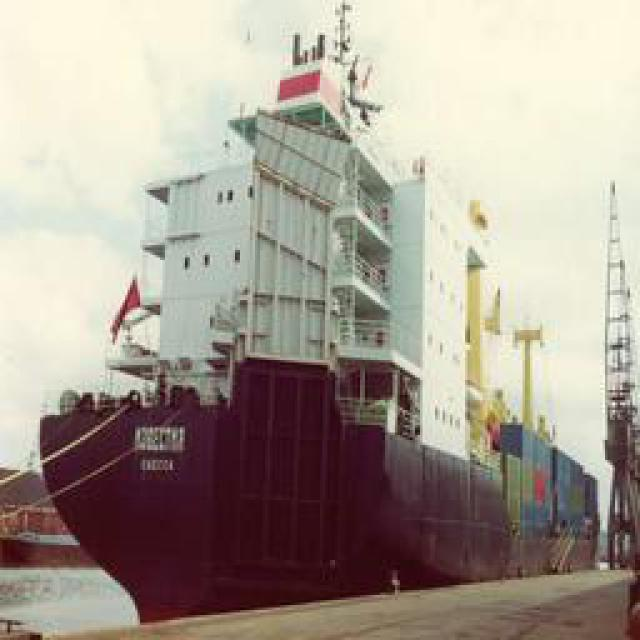Ship: (34, 3, 621, 628)
